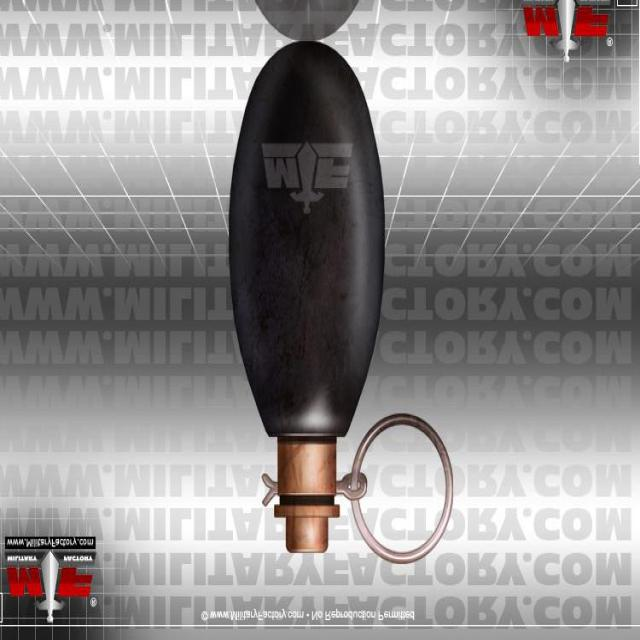grenade: (229, 41, 455, 568)
